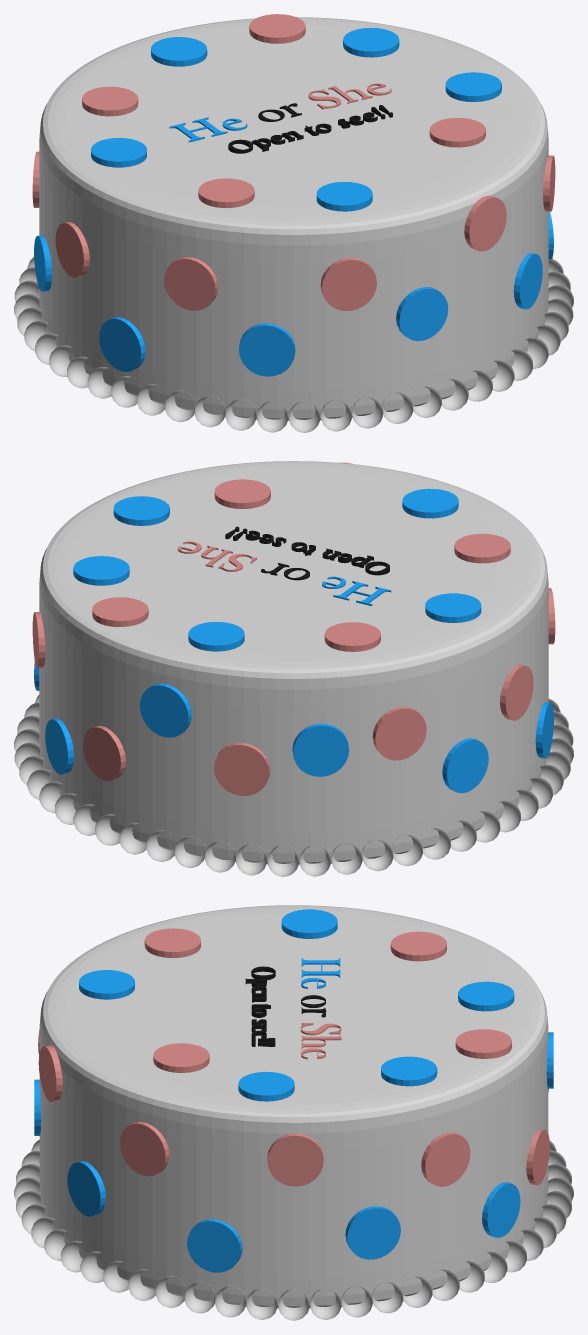
Rendered from Gender_Reveal_4.glb.
The picture shows the model from 3 angles, top to bottom: view 1: azimuth 30°, elevation 25°; view 2: azimuth 150°, elevation 25°; view 3: azimuth 270°, elevation 25°; orthographic projection.
Parts seen in each view (by area): view 1: Circle, Sphere, Cylinder.016, Cylinder.001, Cylinder.007, Cylinder, Cylinder.017, Cylinder.015, Cylinder.008, Text, Cylinder.029, Cylinder.026 (+12 smaller); view 2: Circle, Sphere, Cylinder.019, Cylinder.010, Cylinder.009, Cylinder.020, Cylinder.018, Cylinder.011, Text, Cylinder.008, Cylinder.029, Cylinder.006 (+12 smaller); view 3: Circle, Sphere, Cylinder.013, Cylinder.023, Cylinder.022, Cylinder.014, Cylinder.012, Cylinder.021, Cylinder.024, Cylinder.029, Cylinder.002, Cylinder.026 (+11 smaller).
Part boxes in pixels (x1,y1,x2,y2): Circle: [39, 17, 548, 420]; Sphere: [14, 257, 573, 432]; Cylinder.016: [239, 323, 295, 376]; Cylinder.001: [320, 258, 376, 310]; Cylinder.007: [164, 257, 218, 310]; Cylinder: [396, 287, 448, 341]; Cylinder.017: [99, 317, 145, 371]; Cylinder.015: [464, 195, 506, 251]; Cylinder.008: [55, 222, 89, 277]; Text: [228, 105, 392, 153]; Cylinder.029: [249, 14, 305, 43]; Cylinder.026: [429, 117, 485, 147]; Circle: [39, 461, 548, 864]; Sphere: [14, 695, 573, 876]; Cylinder.019: [292, 723, 348, 776]; Cylinder.010: [214, 743, 270, 795]; Cylinder.009: [372, 706, 426, 760]; Cylinder.020: [139, 683, 191, 737]; Cylinder.018: [442, 738, 488, 793]; Cylinder.011: [83, 725, 125, 780]; Text: [225, 526, 389, 575]; Cylinder.008: [500, 664, 533, 720]; Cylinder.029: [92, 597, 148, 626]; Cylinder.006: [73, 556, 129, 585]; Circle: [39, 905, 548, 1308]; Sphere: [14, 1139, 573, 1320]; Cylinder.013: [267, 1133, 323, 1186]; Cylinder.023: [187, 1219, 242, 1272]; Cylinder.022: [345, 1206, 400, 1259]; Cylinder.014: [120, 1121, 169, 1176]; Cylinder.012: [421, 1132, 470, 1186]; Cylinder.021: [482, 1182, 520, 1237]; Cylinder.024: [67, 1161, 105, 1216]; Cylinder.029: [455, 1029, 511, 1058]; Cylinder.002: [458, 981, 514, 1011]; Cylinder.026: [153, 1043, 209, 1072].
Size of the model in its own units: 0.1305 by 0.0527 by 0.1305.
